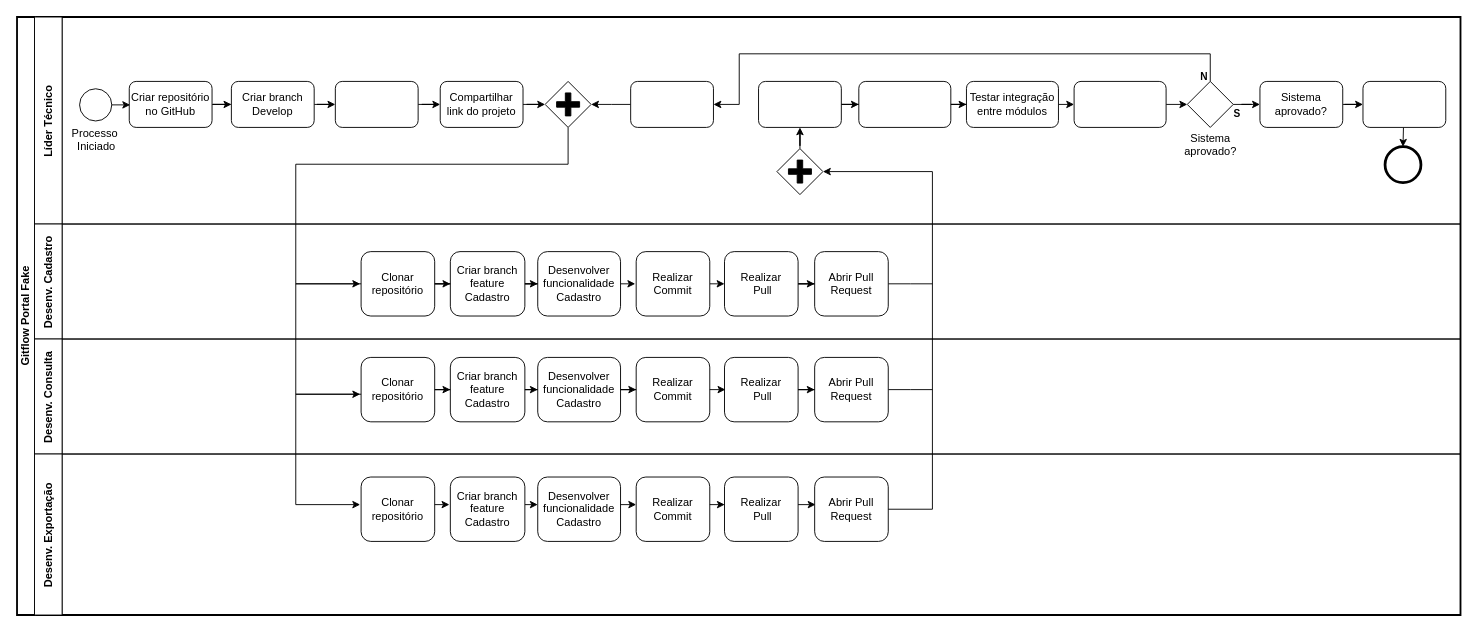
Image size: 1477x631. Some labels were removed from this diagram. The shapes that lost their labels are listed below. From the top down, each one's centre as x and y in pixels, then its label:
the point at 376,103: Adicionar colaboradores
the point at 567,103: Abertura atividades em paralelo
the point at 671,103: Solicitar correções em features
the point at 799,103: Revisar Pull Requests
the point at 904,103: Validar módulos desenvolvidos
the point at 1119,103: Realizar merge features para develop
the point at 1404,103: Realizar merge para main
the point at 799,171: Fechamento atividades em paralelo
the point at 1402,164: Sistema Entregue
